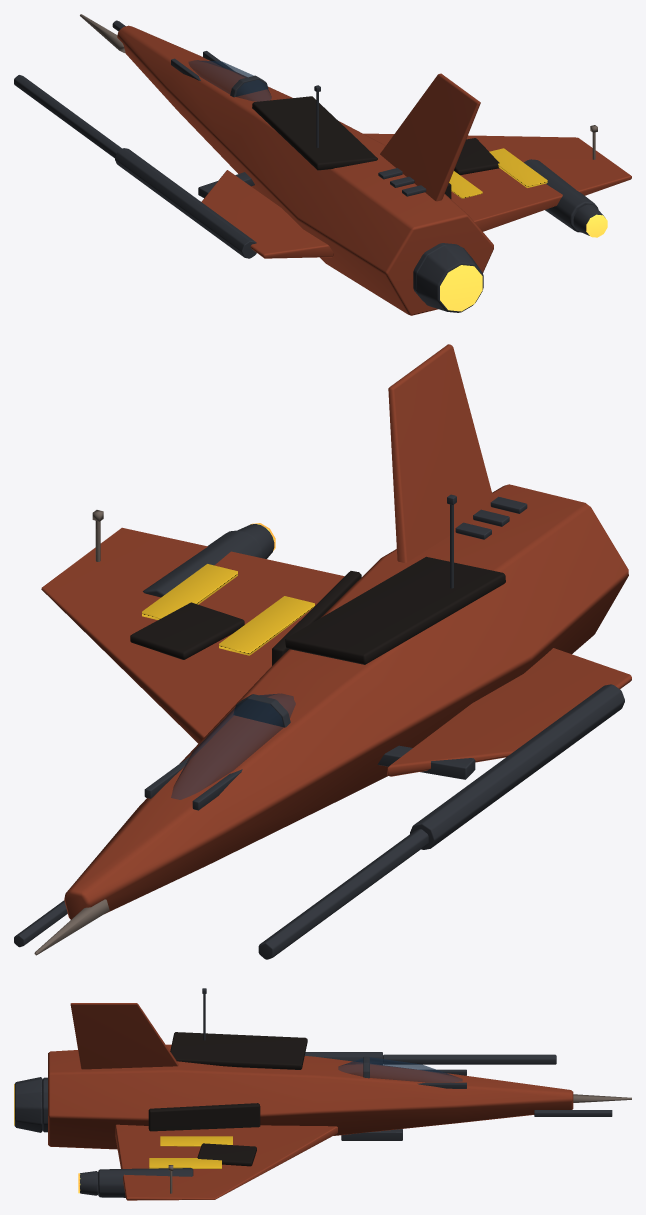
File: pirate_interceptor.glb
3 views of the same model, one above another, from view 1: azimuth 30°, elevation 25°; view 2: azimuth 150°, elevation 25°; view 3: azimuth 270°, elevation 25° (orthographic). The views are drawn at different scales.
Parts seen in each view (by area): view 1: hull, wing_R, tail_fin_R, scrap_plates, gun_boom_L, wing_L, engine, engine_glow, canopy_glass, hazard_stripes, canopy_frame, vents; view 2: hull, wing_R, scrap_plates, tail_fin_R, gun_boom_L, wing_L, canopy_glass, hazard_stripes, engine, canopy_frame, vents, spikes (+1 smaller); view 3: hull, wing_R, scrap_plates, tail_fin_R, engine, gun_boom_L, canopy_glass, hazard_stripes, canopy_frame, missile_rail, nose_gun, spikes.
Boxes of the visible parts, bbox=[...] form: hull: bbox=[117, 25, 493, 315]; wing_R: bbox=[363, 133, 631, 231]; tail_fin_R: bbox=[380, 73, 480, 201]; scrap_plates: bbox=[252, 96, 499, 198]; gun_boom_L: bbox=[14, 75, 256, 258]; wing_L: bbox=[201, 170, 333, 258]; engine: bbox=[413, 159, 604, 312]; engine_glow: bbox=[440, 214, 607, 311]; canopy_glass: bbox=[188, 60, 271, 101]; hazard_stripes: bbox=[449, 148, 547, 198]; canopy_frame: bbox=[171, 51, 268, 97]; vents: bbox=[314, 85, 426, 196]; hull: bbox=[64, 484, 628, 919]; wing_R: bbox=[41, 527, 344, 743]; scrap_plates: bbox=[130, 556, 505, 665]; tail_fin_R: bbox=[388, 344, 493, 562]; gun_boom_L: bbox=[258, 684, 624, 959]; wing_L: bbox=[387, 648, 631, 776]; canopy_glass: bbox=[171, 693, 295, 799]; hazard_stripes: bbox=[142, 564, 314, 655]; engine: bbox=[143, 524, 274, 597]; canopy_frame: bbox=[144, 694, 290, 810]; vents: bbox=[447, 494, 527, 588]; spikes: bbox=[34, 899, 109, 955]; hull: bbox=[48, 1044, 573, 1149]; wing_R: bbox=[115, 1124, 337, 1200]; scrap_plates: bbox=[148, 1032, 307, 1166]; tail_fin_R: bbox=[70, 1003, 178, 1069]; engine: bbox=[14, 1077, 193, 1197]; gun_boom_L: bbox=[305, 1052, 556, 1064]; canopy_glass: bbox=[338, 1057, 462, 1082]; hazard_stripes: bbox=[149, 1136, 232, 1168]; canopy_frame: bbox=[363, 1056, 466, 1088]; missile_rail: bbox=[341, 1129, 402, 1140]; nose_gun: bbox=[534, 1110, 612, 1116]; spikes: bbox=[573, 1094, 631, 1102].
Size of what is drawn, in the model's own units: 6.24 by 3.08 by 11.06.
